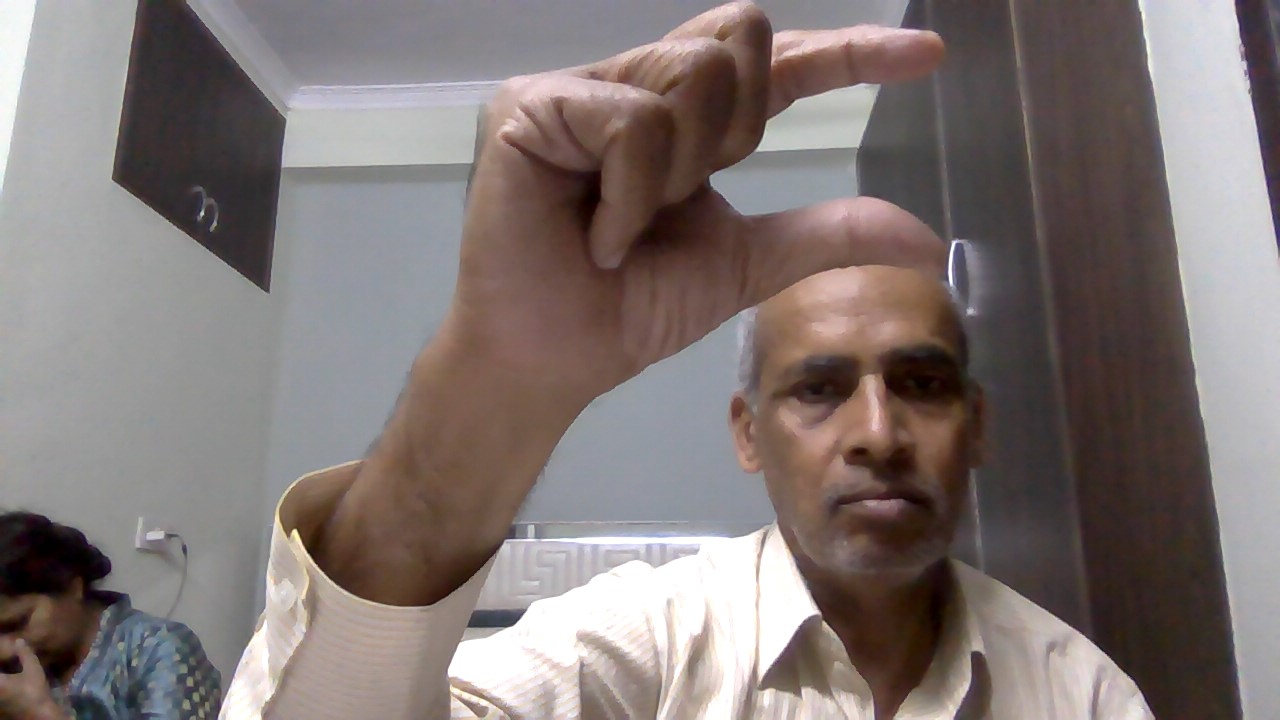Paste: (447, 2, 954, 430)
